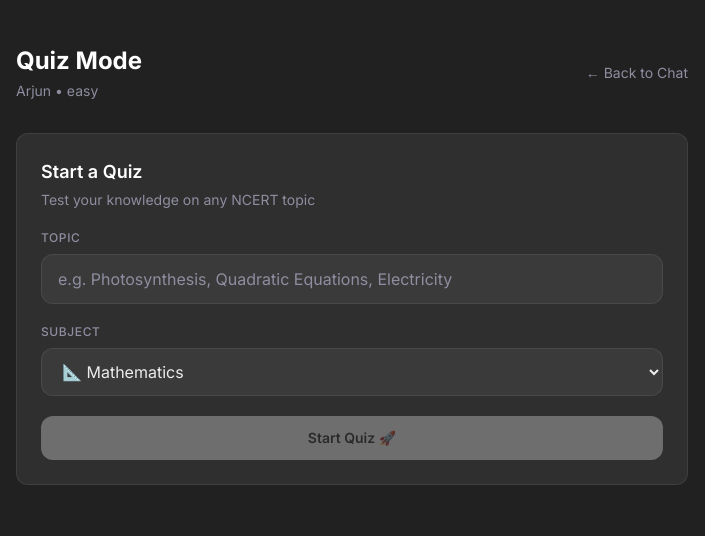
Test: QuizPage › falls back to local evaluation if API fails
Type "Biology" into the field labelled "Topic" at (352, 279), box [41, 254, 663, 304]
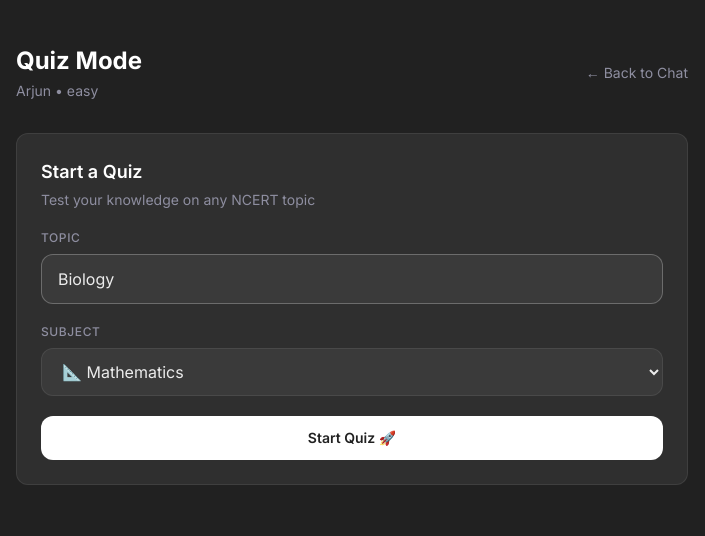
Click the button "Start Quiz 🚀" at (352, 438), box [41, 416, 663, 460]
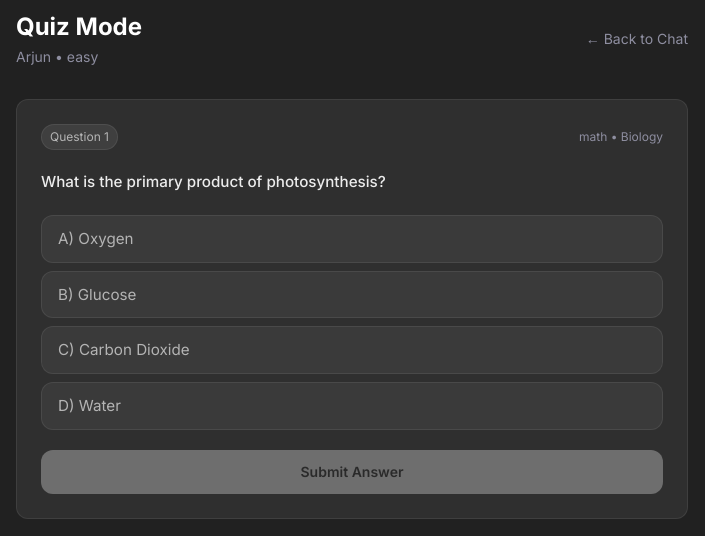
Click the button "B) Glucose" at (97, 294), box [41, 271, 663, 318]
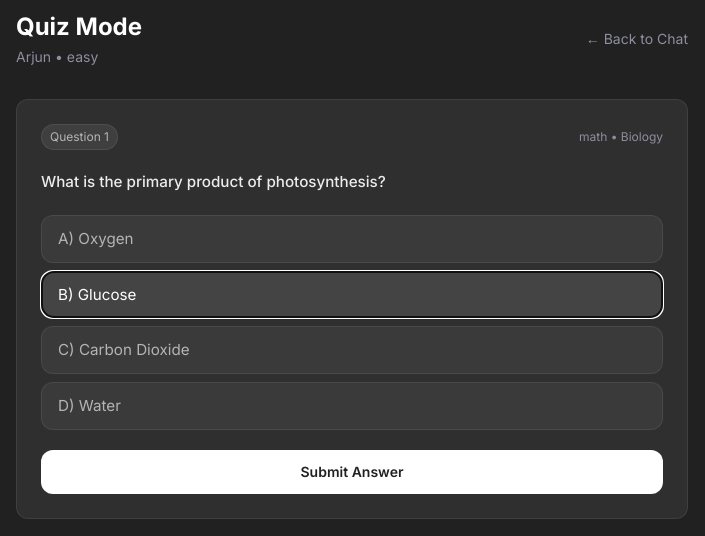
Click the button "Submit Answer" at (352, 472), box [41, 450, 663, 494]
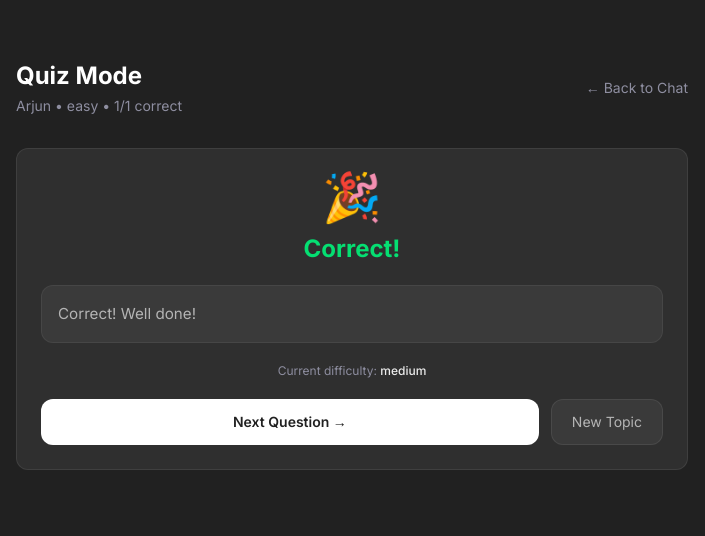
Check: the heading "Correct!" is shown, box [304, 234, 400, 263]
